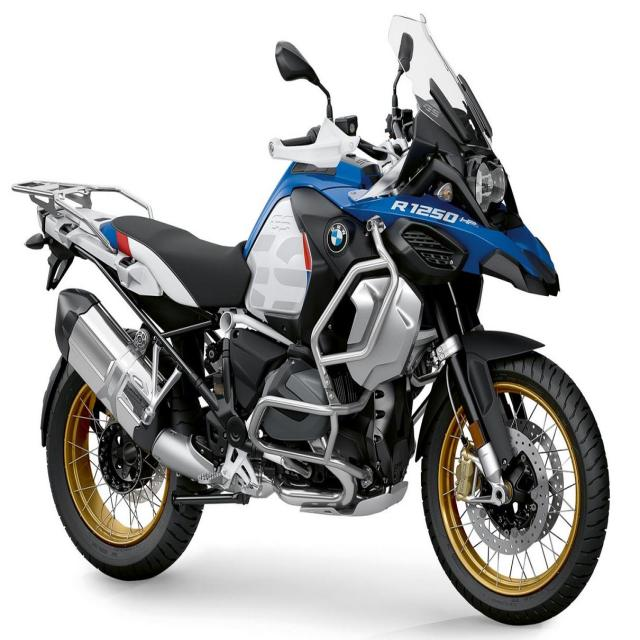motorcycle: (20, 16, 609, 625)
